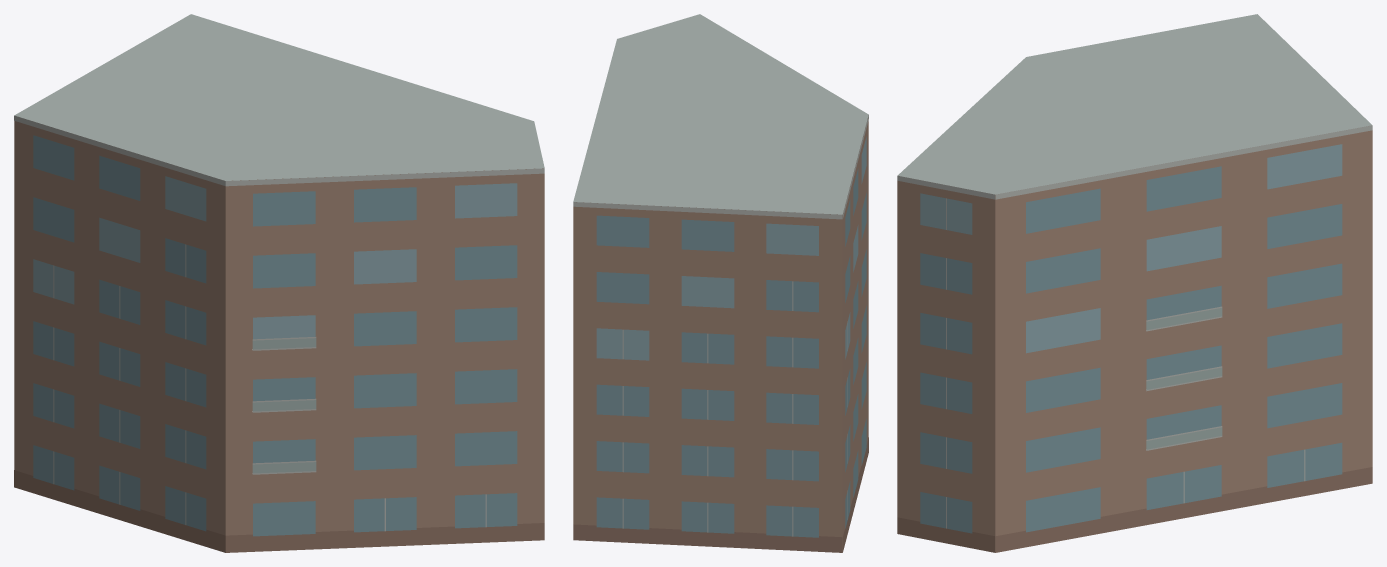
The model's file is survey-upis-32837043.glb.
3 renders of one model, left to right at view 1: azimuth 30°, elevation 25°; view 2: azimuth 150°, elevation 25°; view 3: azimuth 270°, elevation 25°, orthographic. The views are drawn at different scales.
Visible parts, largest first — view 1: survey-upis-32837043.tmp; view 2: survey-upis-32837043.tmp; view 3: survey-upis-32837043.tmp.
Part boxes in pixels (box(x1,y1,x2,y2)): survey-upis-32837043.tmp: box(14, 14, 544, 552); survey-upis-32837043.tmp: box(573, 14, 868, 552); survey-upis-32837043.tmp: box(897, 14, 1372, 552).
Bounding box in the file's own units: 18.71 × 17.3 × 20.8.
